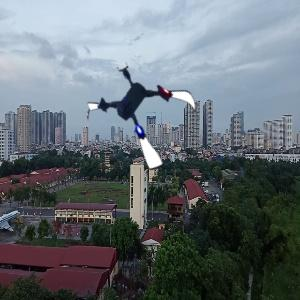drone: (90, 57, 203, 170)
